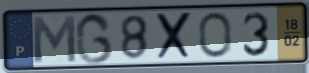3: (241, 10, 271, 58)
8: (119, 13, 151, 62)
G: (74, 11, 115, 66)
M: (29, 13, 79, 64)
O: (196, 11, 234, 60)
X: (155, 10, 195, 62)
